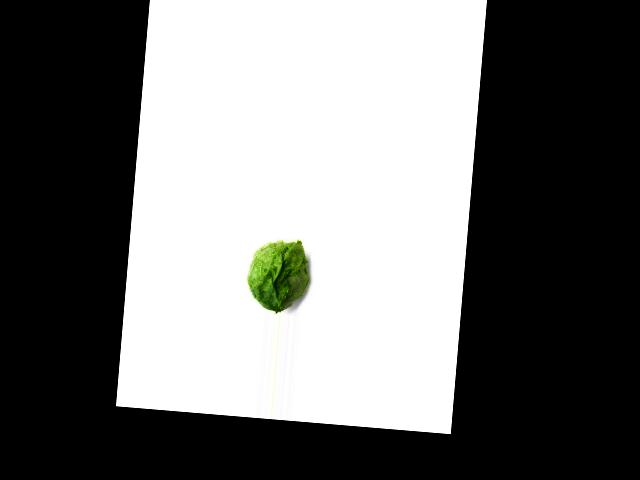lettuce: (240, 237, 316, 314)
